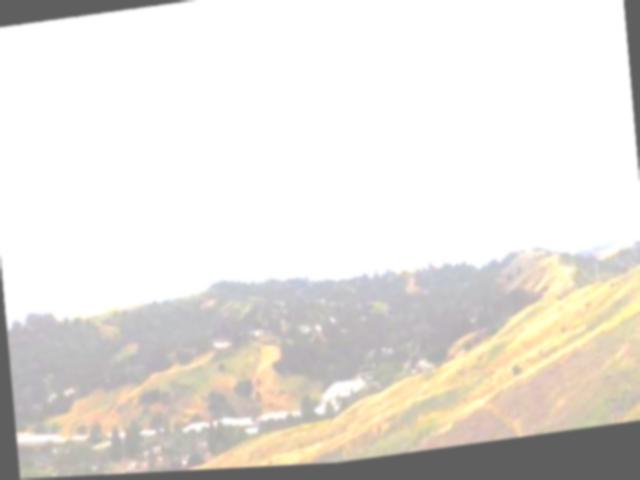iha: (195, 107, 232, 132)
